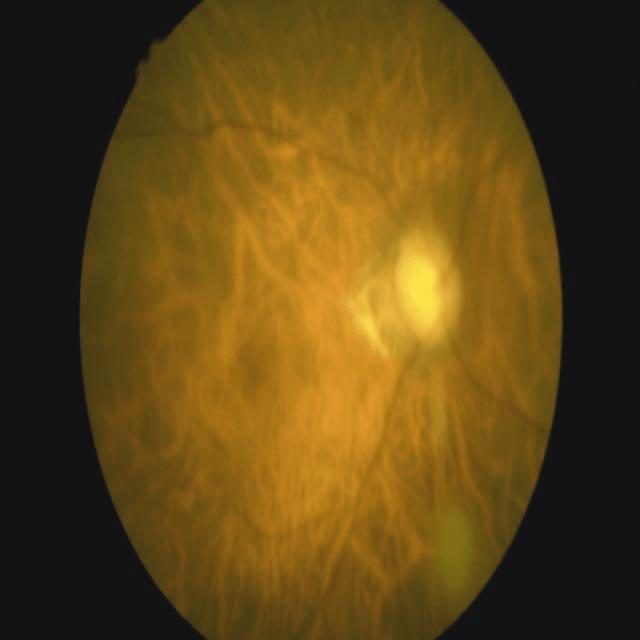cup: (421, 242, 457, 330)
disk: (395, 228, 465, 346)
